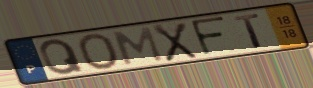F: (188, 15, 228, 57)
M: (111, 26, 166, 67)
O: (76, 32, 123, 71)
Q: (38, 37, 87, 76)
T: (232, 13, 265, 49)
X: (150, 21, 200, 64)
